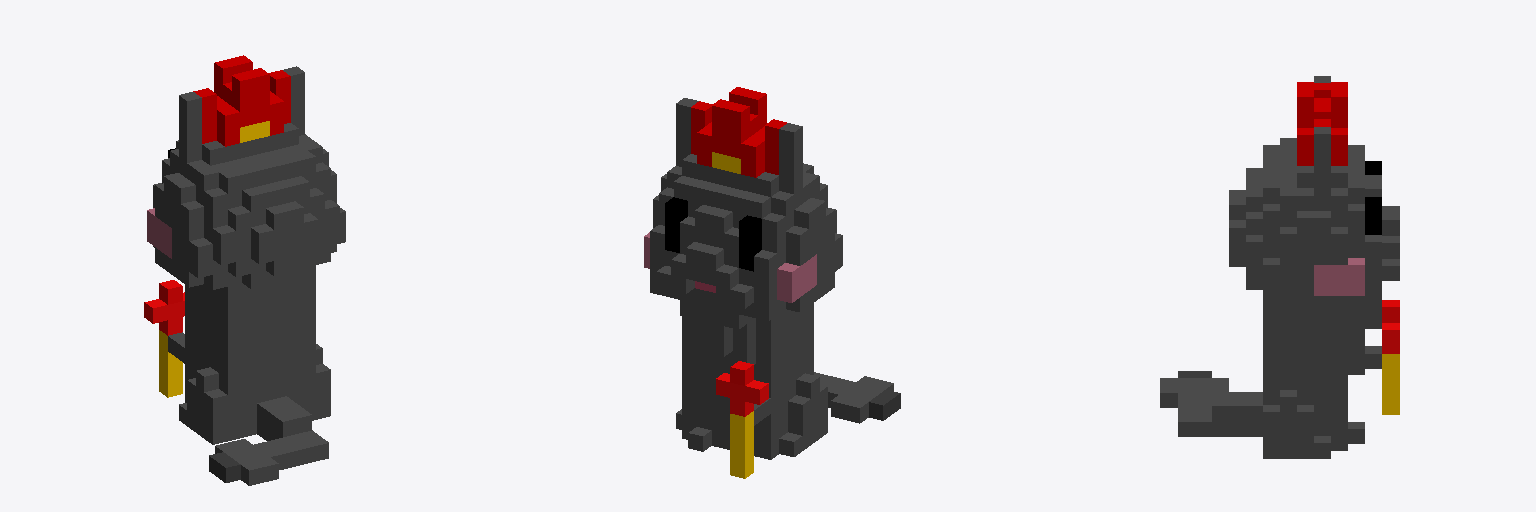
3 renders of one model, left to right at view 1: azimuth 30°, elevation 25°; view 2: azimuth 150°, elevation 25°; view 3: azimuth 270°, elevation 25°, orthographic.
Parts seen in each view (by area): view 1: object 1; view 2: object 1; view 3: object 1.
Boxes of the visible parts, box(x1,y1,x2,y2) form: object 1: box(144, 55, 345, 485); object 1: box(644, 87, 900, 478); object 1: box(1160, 76, 1399, 458).
Bounding box in the file's own units: 1.1 × 2.2 × 1.4.
1 materials, 1 textured.